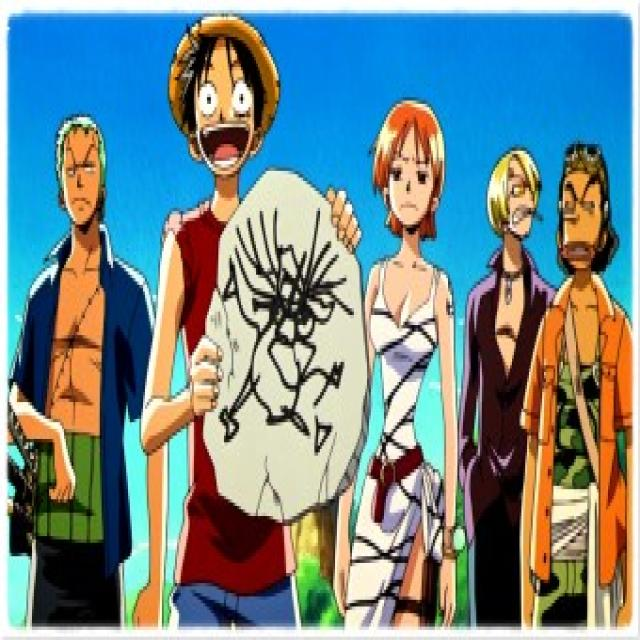Luffy: (164, 0, 282, 187)
Nami: (360, 88, 460, 248)
Sangdi: (479, 132, 548, 258)
Usopp: (550, 130, 623, 292)
Zoro: (43, 109, 122, 240)
